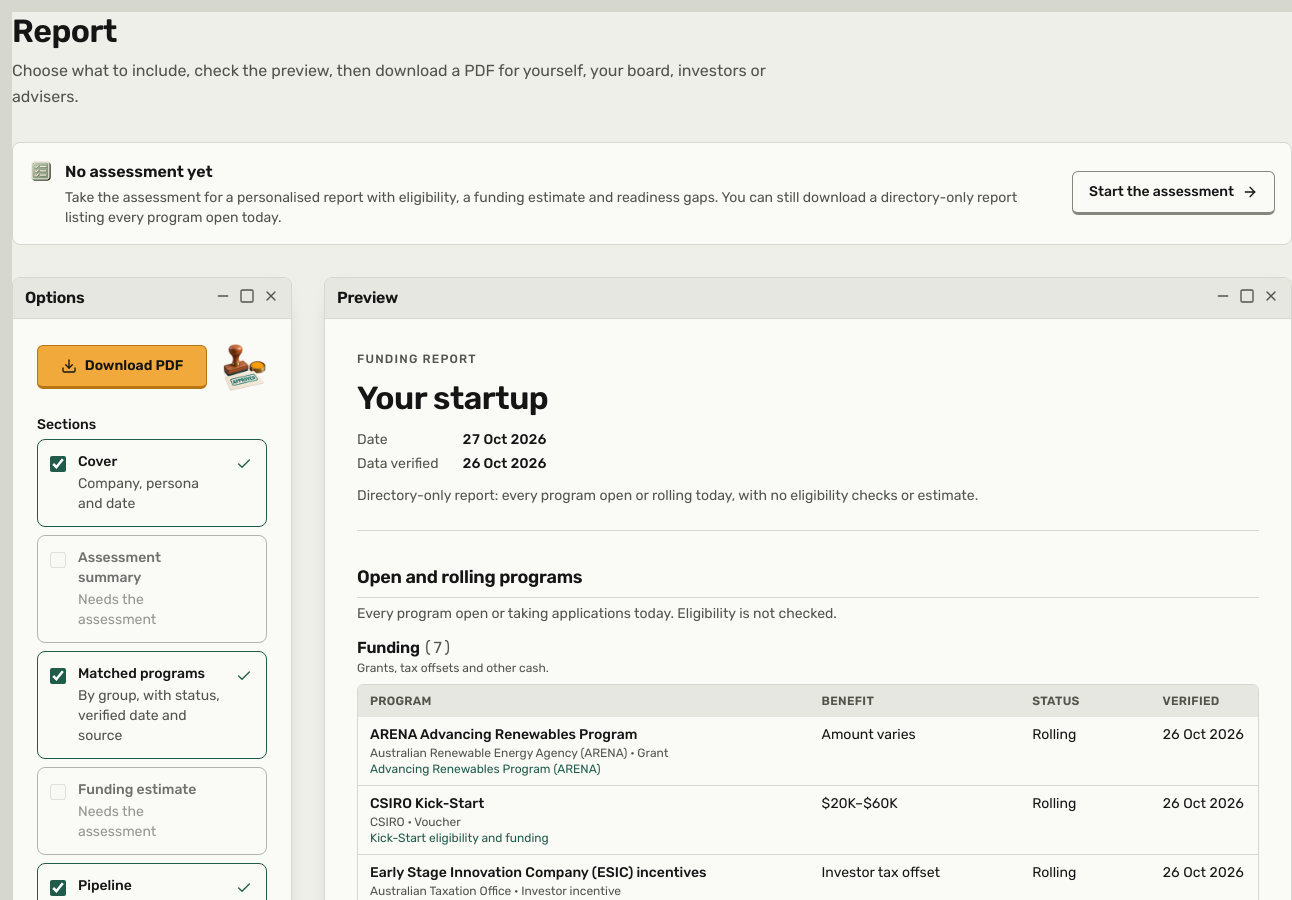
ReportBuilder › makes Download PDF the primary button, with a 16px spinner while the PDF is made
Step 1. Click the button "Download PDF" → coordinates (122, 367), box [37, 345, 207, 389]
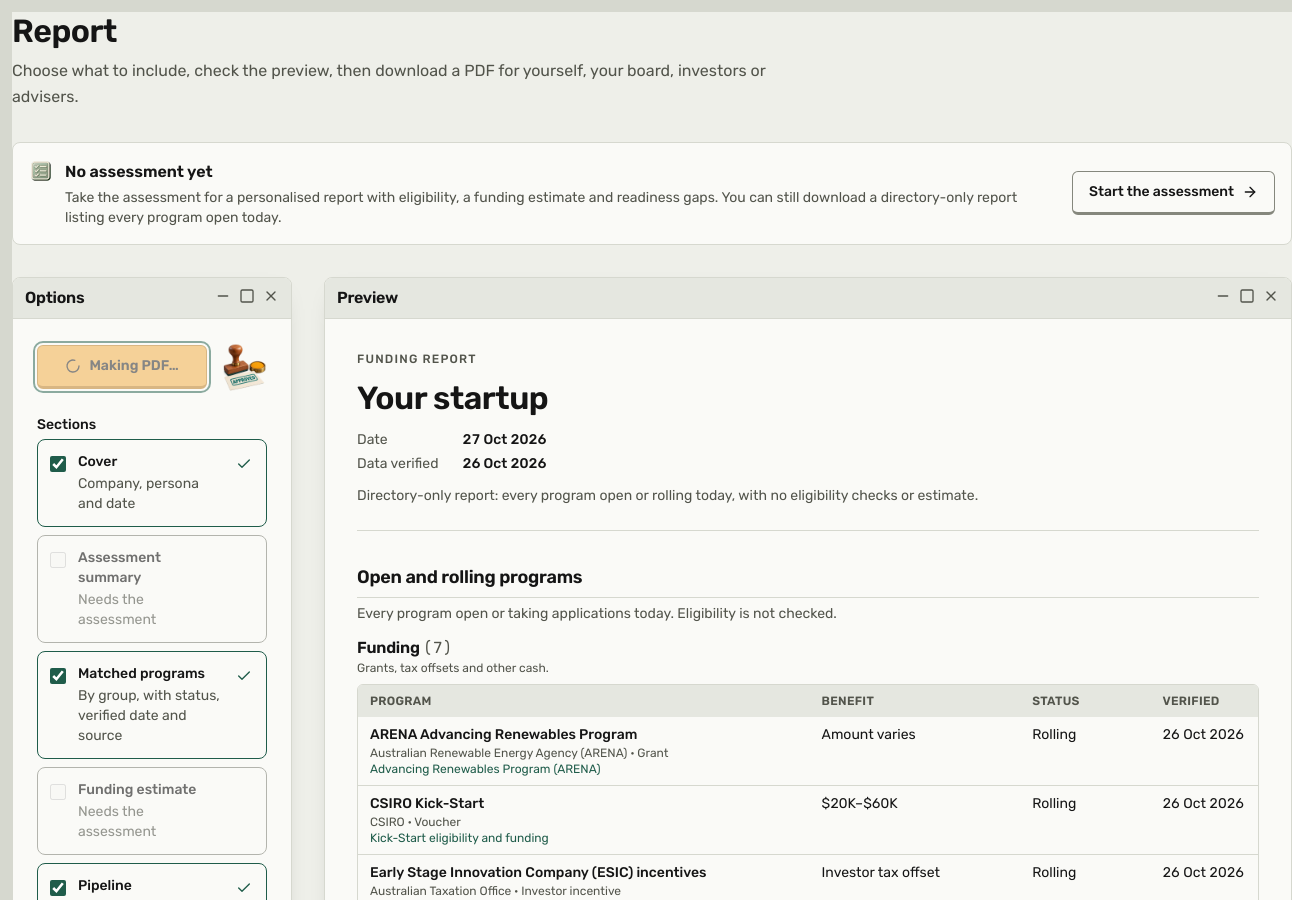
Now the button "Making PDF…" is enabled
# A second press while busy does not start another PDF.
Step 2. Click the button "Making PDF…" → coordinates (122, 367), box [37, 345, 207, 389]
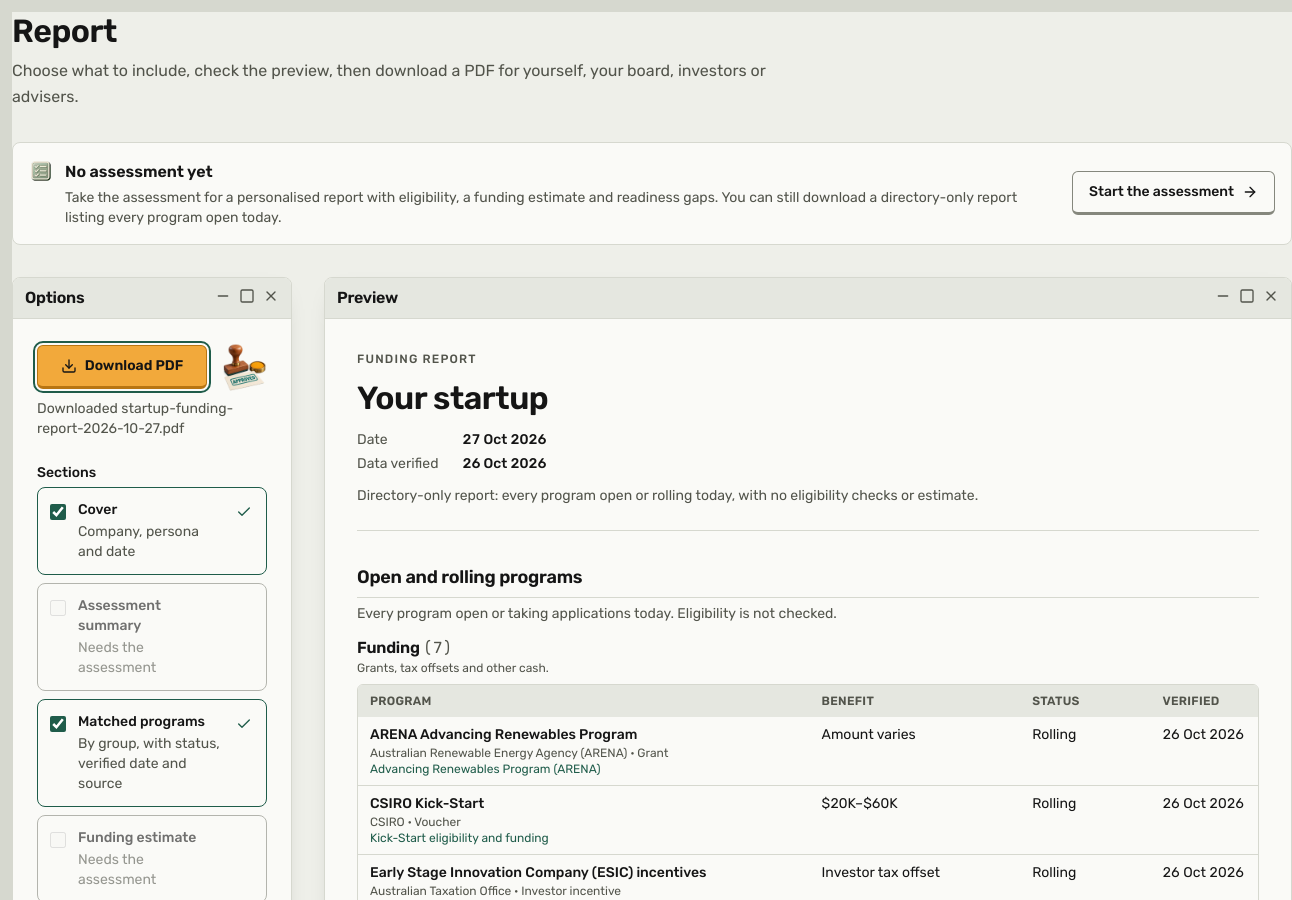
Now the text "Downloaded startup-funding-report-2026-10-27.pdf" is shown, box [37, 399, 267, 439]
